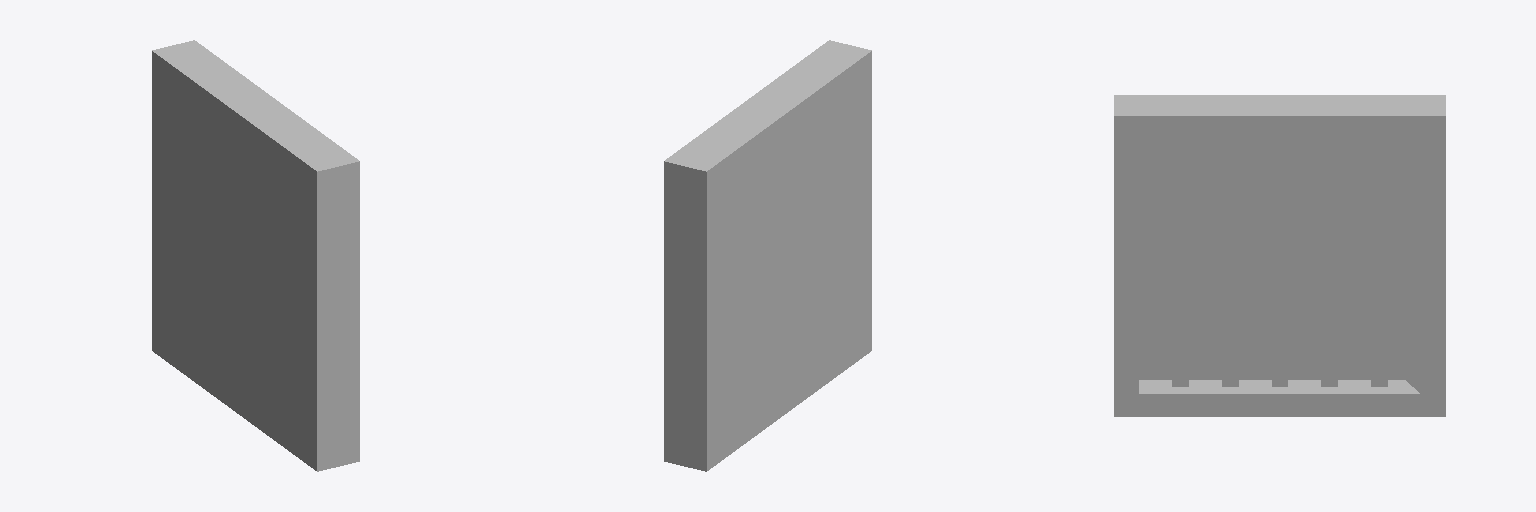
Rendered from window6.obj.
3 renders of one model, left to right at view 1: azimuth 30°, elevation 25°; view 2: azimuth 150°, elevation 25°; view 3: azimuth 270°, elevation 25°, orthographic.
Visible parts, largest first — view 1: window_Cube, interior_Cube.001; view 2: window_Cube, interior_Cube.001; view 3: window_Cube, interior_Cube.001.
Part boxes in pixels (left/top/right/bottom): window_Cube: left=152, top=40, right=359, bottom=471; interior_Cube.001: left=164, top=82, right=304, bottom=438; window_Cube: left=664, top=40, right=871, bottom=471; interior_Cube.001: left=719, top=82, right=859, bottom=438; window_Cube: left=1114, top=95, right=1445, bottom=416; interior_Cube.001: left=1139, top=139, right=1404, bottom=379.
Bounding box in the file's own units: 0.3 × 2 × 2.